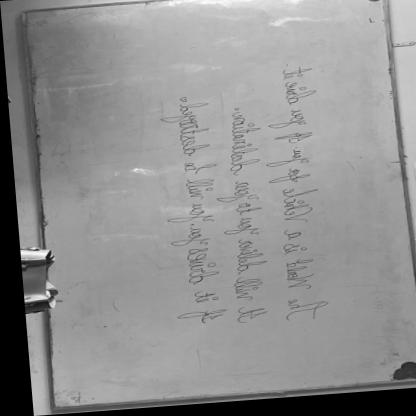Handwritten text: (252, 70, 334, 327), (142, 102, 224, 334), (205, 111, 272, 327)
